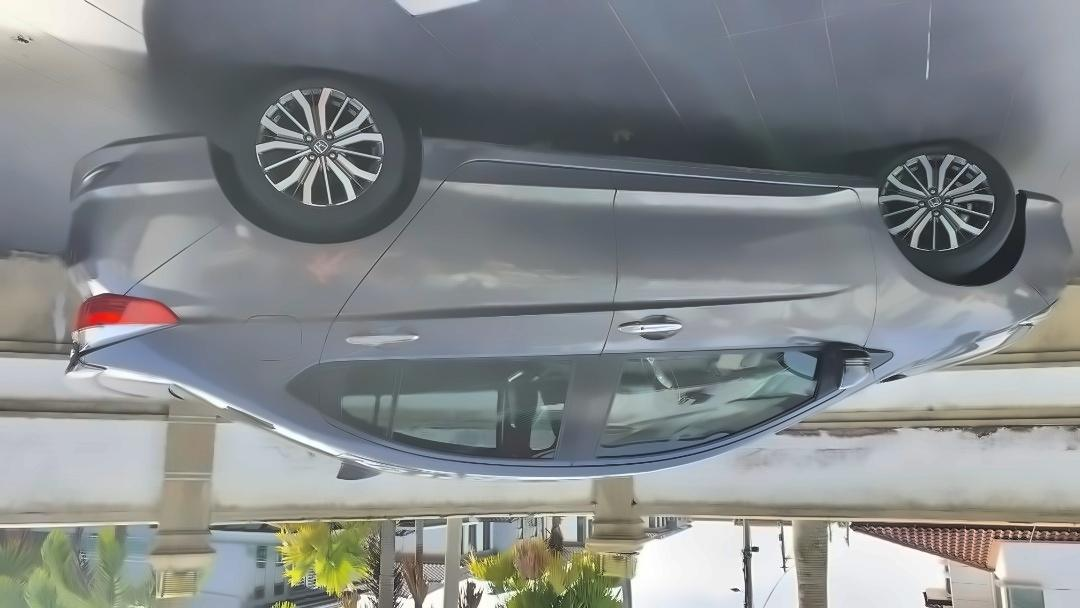Car hood: (878, 321, 1033, 382)
Fender - -F-L-: (847, 171, 1019, 393)
Fender - -R-L-: (81, 119, 457, 405)
Front bumper: (1012, 181, 1080, 308)
Passenger-s door - -F-L-: (557, 137, 879, 491)
Passenger-s door - -R-L-: (310, 121, 632, 493)
Rear bumper: (63, 126, 229, 304)
Rear light - -L-: (70, 293, 181, 358)
Side bumper - -L-: (411, 121, 887, 244)
Side mirror - -L-: (830, 344, 872, 396)
